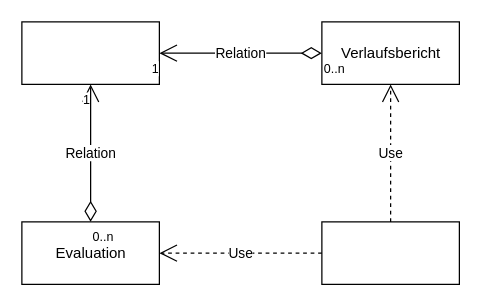
This 481x306 diagram has some shape labels left out. Here are the shapes that lost their labels. From the top down, the centre of each, then its label:
At point 90,52: "Patient".
At point 390,252: "Spitexmitarbeiter".
